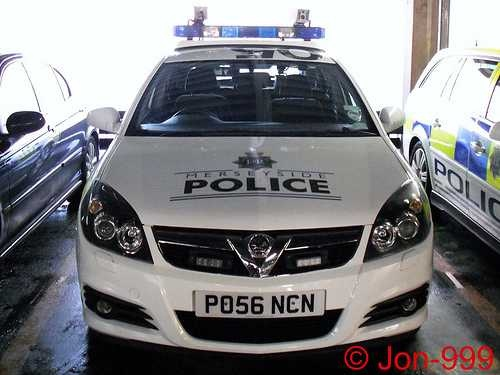Police Van: (106, 32, 414, 364)
